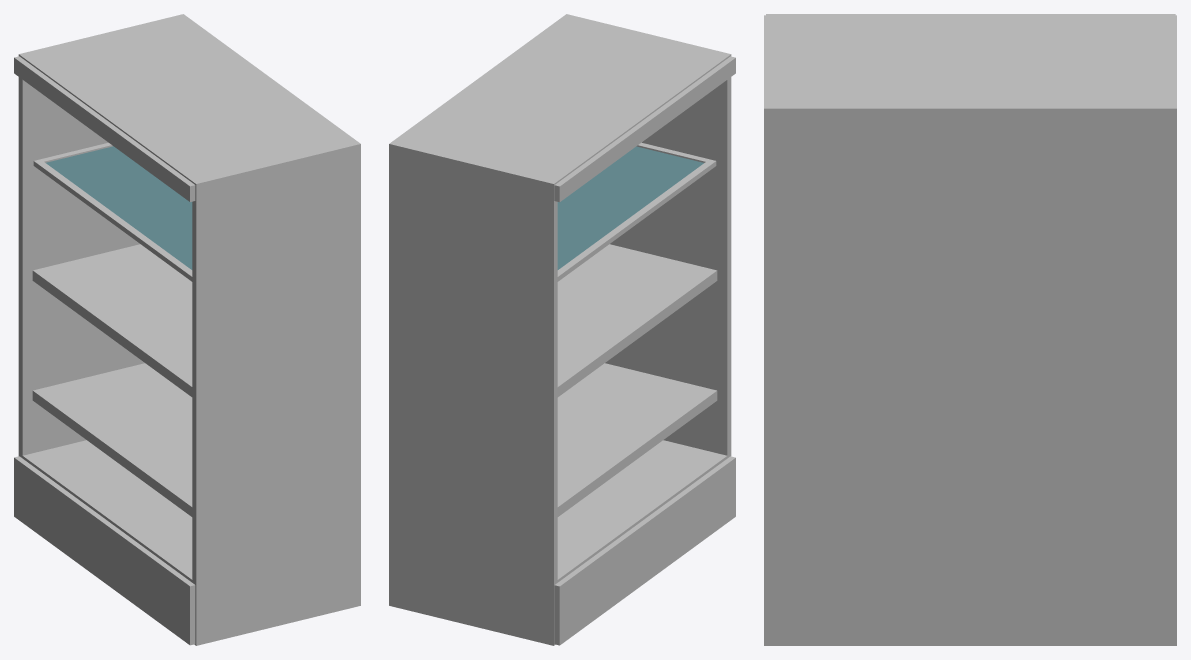
The model's file is SM_Shelf_C_01.fbx.
3 renders of one model, left to right at view 1: azimuth 30°, elevation 25°; view 2: azimuth 150°, elevation 25°; view 3: azimuth 270°, elevation 25°, orthographic. The views are drawn at different scales.
Visible parts, largest first — view 1: SM_Shelf_C_01; view 2: SM_Shelf_C_01; view 3: SM_Shelf_C_01.
Boxes of the visible parts, left/top/right/bottom form: SM_Shelf_C_01: left=14, top=14, right=360, bottom=645; SM_Shelf_C_01: left=389, top=14, right=735, bottom=645; SM_Shelf_C_01: left=764, top=14, right=1176, bottom=645.
Bounding box in the file's own units: 87.21 × 226 × 158.
